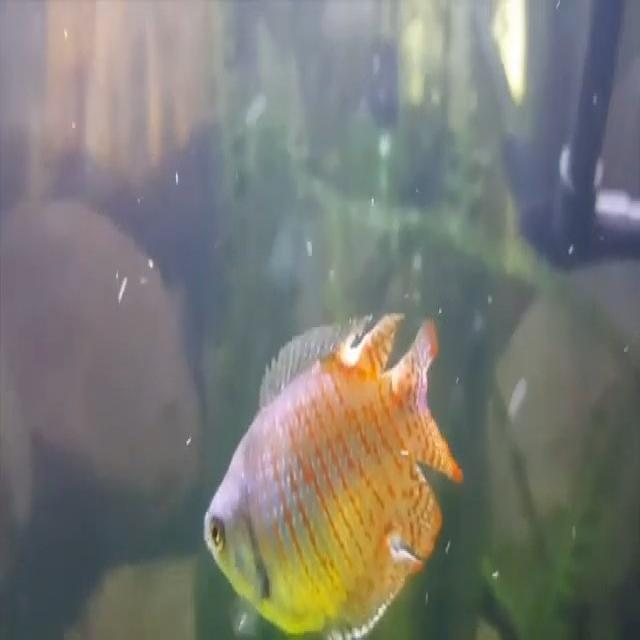fish: (201, 313, 467, 640)
